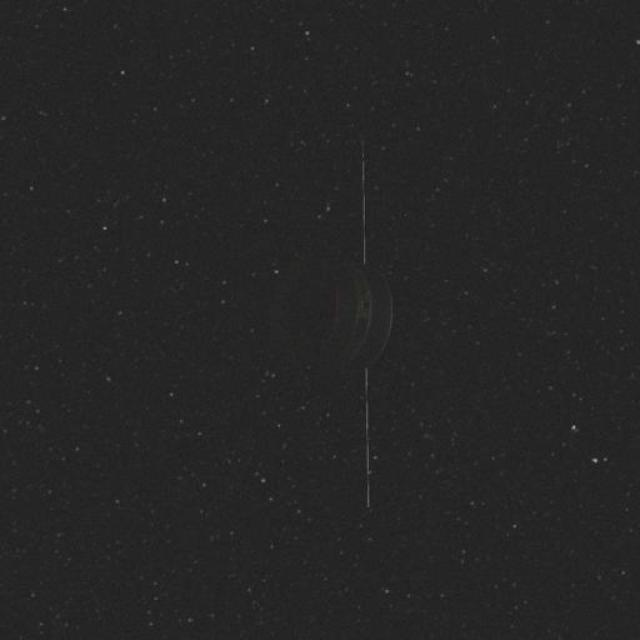double_start: (248, 226, 434, 392)
